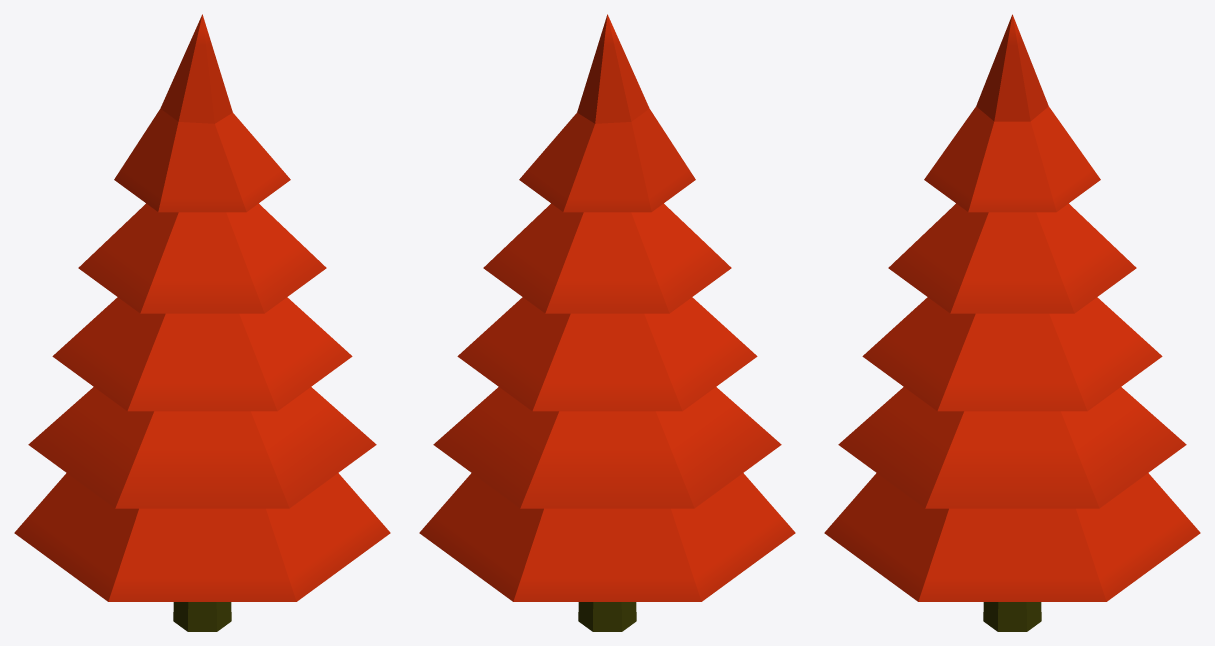
Rendered from AutumnPineTree.fbx.
3 renders of one model, left to right at view 1: azimuth 30°, elevation 25°; view 2: azimuth 150°, elevation 25°; view 3: azimuth 270°, elevation 25°, orthographic.
Parts seen in each view (by area): view 1: AutumnPineTree; view 2: AutumnPineTree; view 3: AutumnPineTree.
Boxes of the visible parts, left/top/right/bottom form: AutumnPineTree: left=14, top=14, right=390, bottom=631; AutumnPineTree: left=419, top=14, right=795, bottom=631; AutumnPineTree: left=824, top=14, right=1200, bottom=631.
Bounding box in the file's own units: 223 × 459 × 258.
